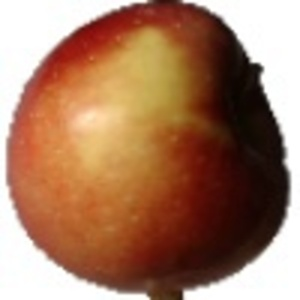maçã braeburn: (5, 2, 292, 291)
